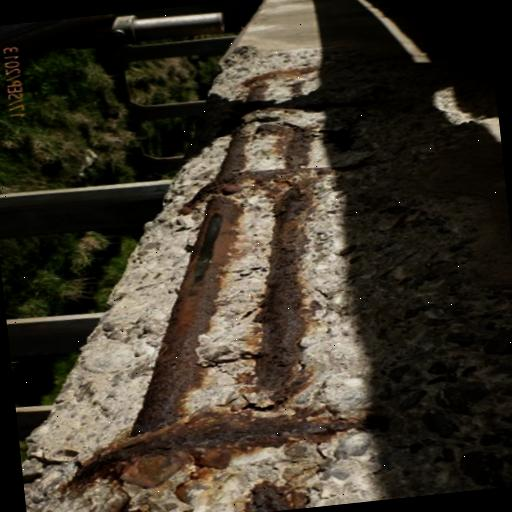spalling: (25, 46, 512, 512)
